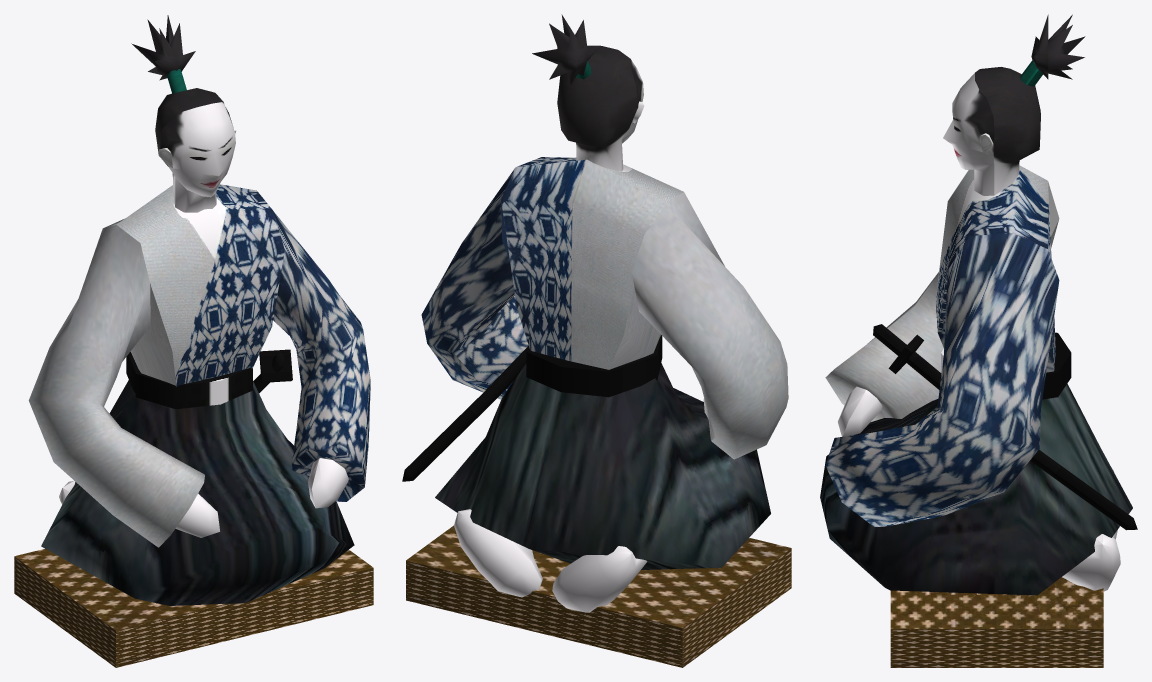
File: SamouraiSculpture1.b.fbx
3 renders of one model, left to right at view 1: azimuth 30°, elevation 25°; view 2: azimuth 150°, elevation 25°; view 3: azimuth 270°, elevation 25°, orthographic. The views are drawn at different scales.
Visible parts, largest first — view 1: Group 0; view 2: Group 0; view 3: Group 0.
Part boxes in pixels (x1,y1,x2,y2): Group 0: (14, 15, 373, 667); Group 0: (402, 14, 791, 667); Group 0: (820, 14, 1137, 667).
Size of the model in its own units: 29.87 by 50.33 by 24.88.
1 material, 1 textured.
